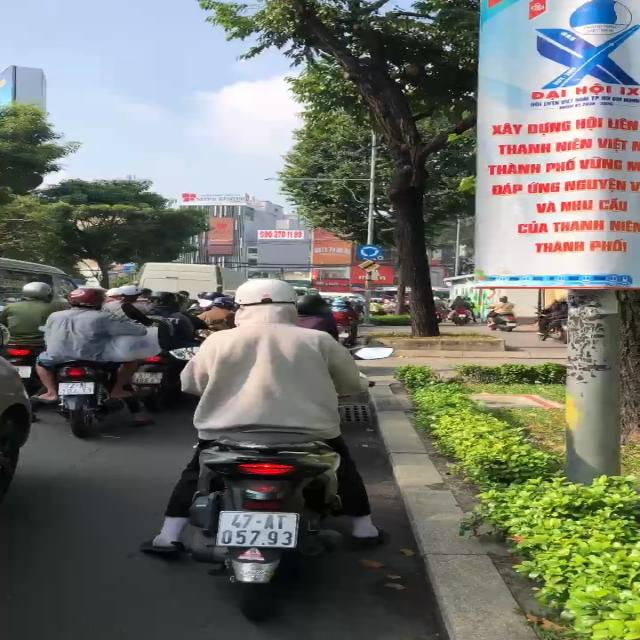Bien bao noi giao nhau chay theo vong xuyen: (355, 243, 386, 259)
